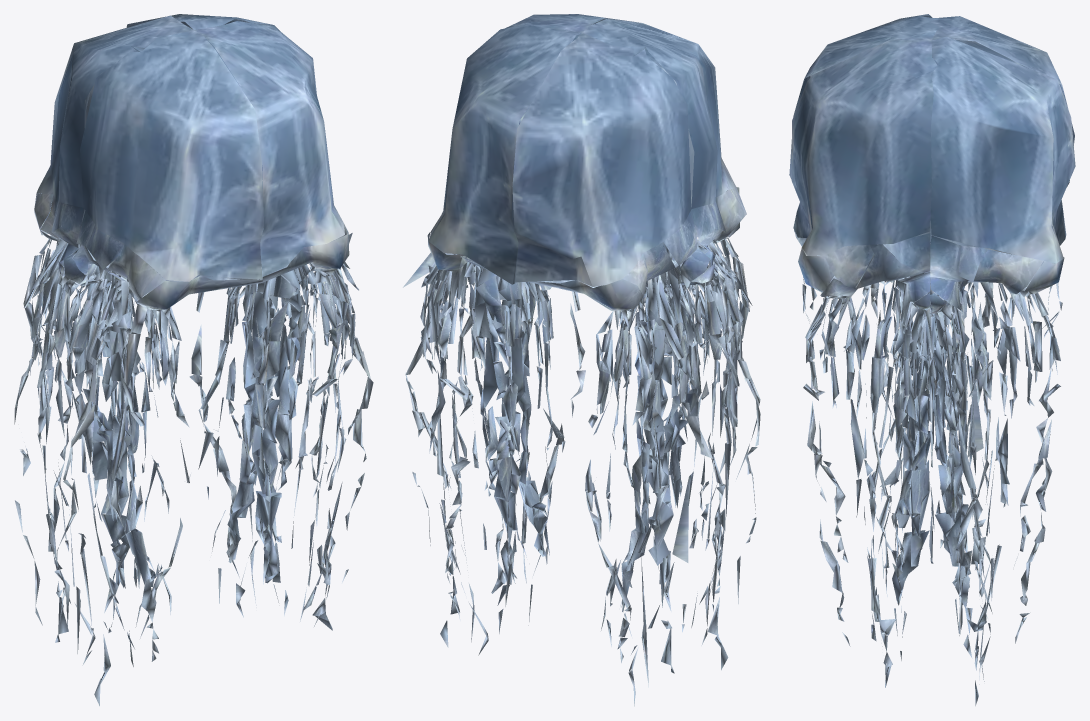
File: jellyfish.glb
The picture shows the model from 3 angles, left to right: view 1: azimuth 30°, elevation 25°; view 2: azimuth 150°, elevation 25°; view 3: azimuth 270°, elevation 25°; orthographic projection. The views are drawn at different scales.
Visible parts, largest first — view 1: Mesh_0; view 2: Mesh_0; view 3: Mesh_0.
Boxes of the visible parts, x1,y1,x2,y2 form: Mesh_0: (14,14,373,706); Mesh_0: (403,14,760,706); Mesh_0: (789,14,1075,706).
Size of the model in its own units: 1.02 by 1.91 by 0.796.
1 material, 1 textured.
